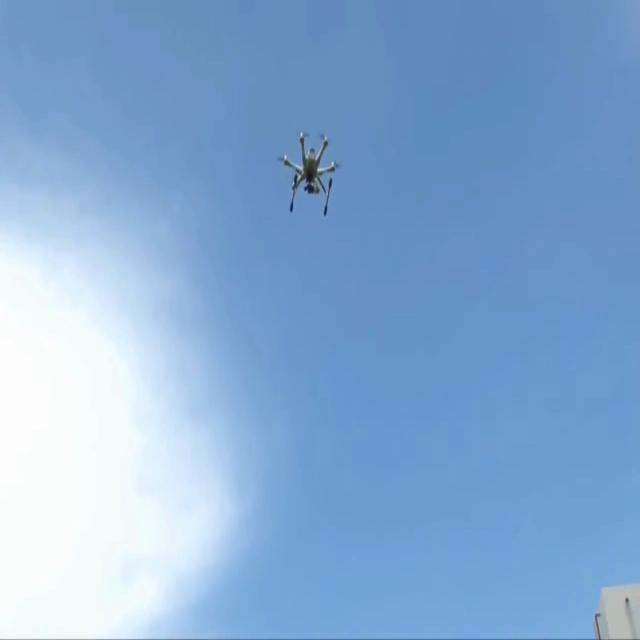drone: (277, 130, 341, 216)
